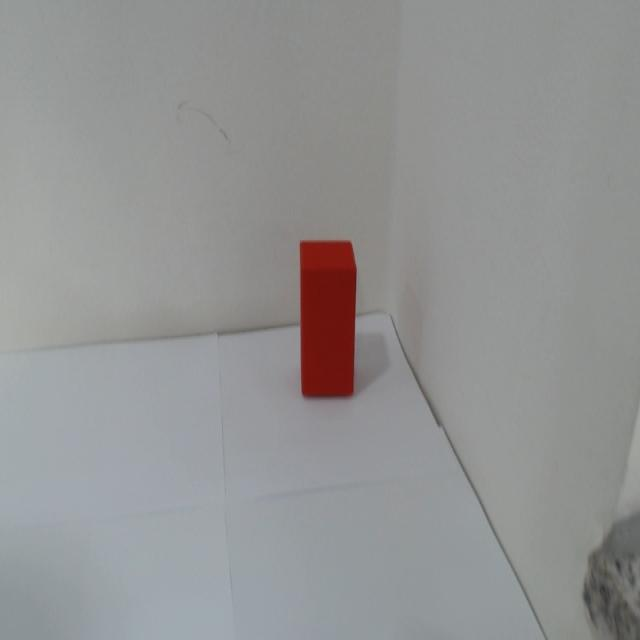cube: (295, 240, 360, 396)
